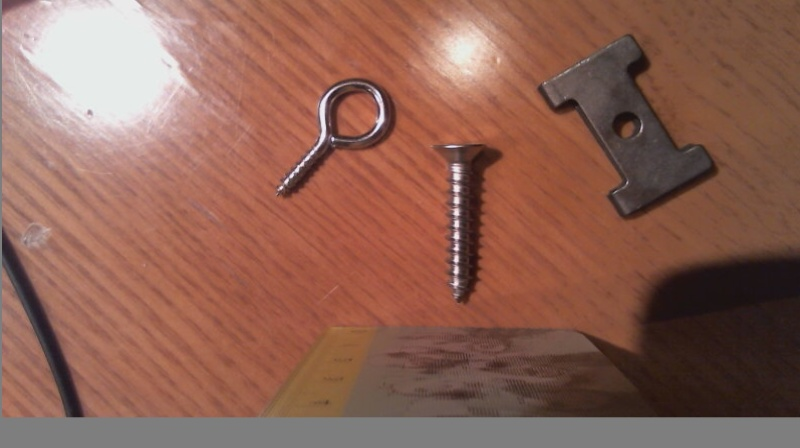O001: (271, 76, 397, 203)
O002: (538, 32, 720, 221)
S001: (428, 136, 490, 305)
